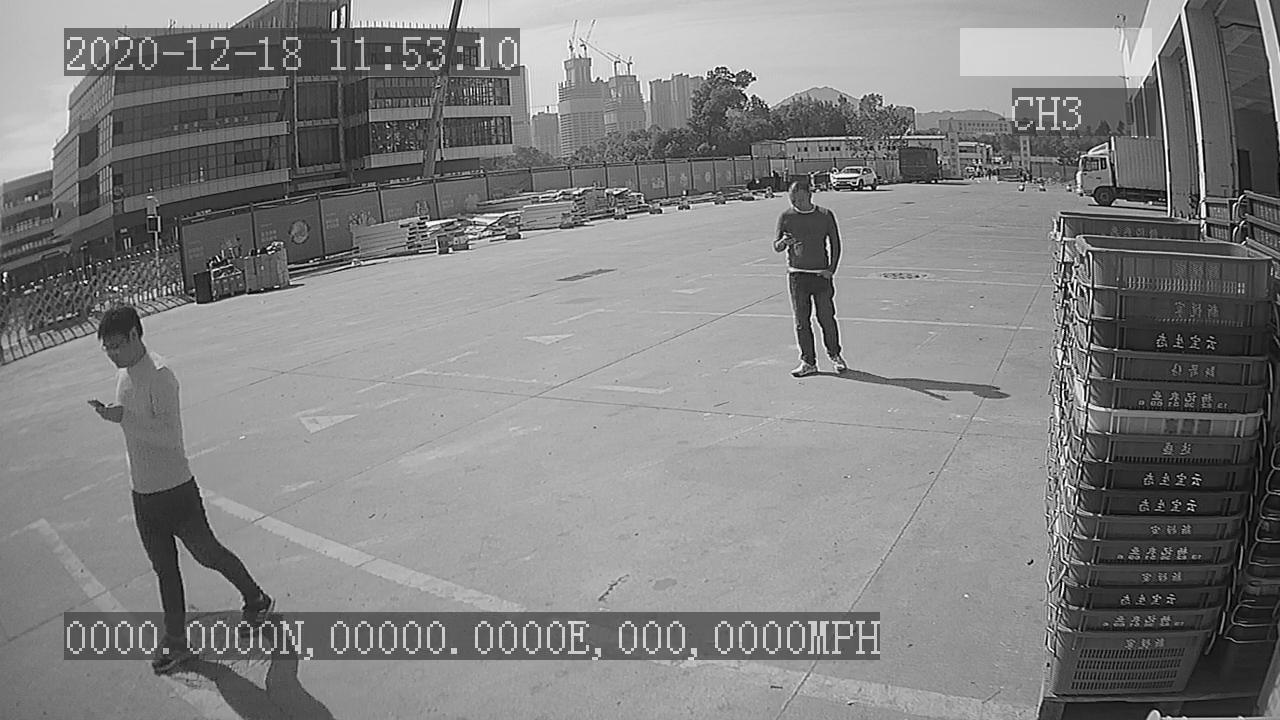person: (763, 177, 847, 386)
